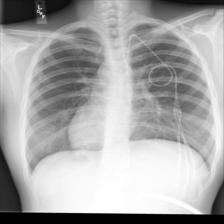normal: (21, 14, 218, 173)
